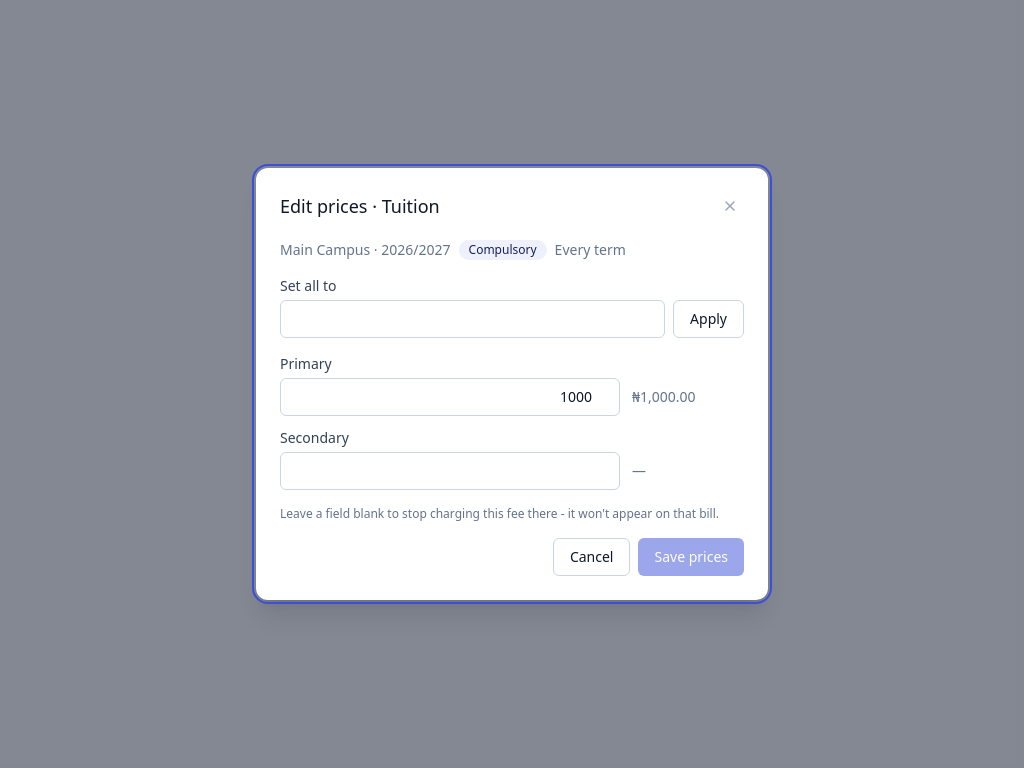
FeePricesModal › a failed row outcome keeps the modal open and shows the message against that level
Type "2000" into the number field named "Tuition price for Secondary".
click(450, 471); type("2000")  # box [280, 452, 620, 490]
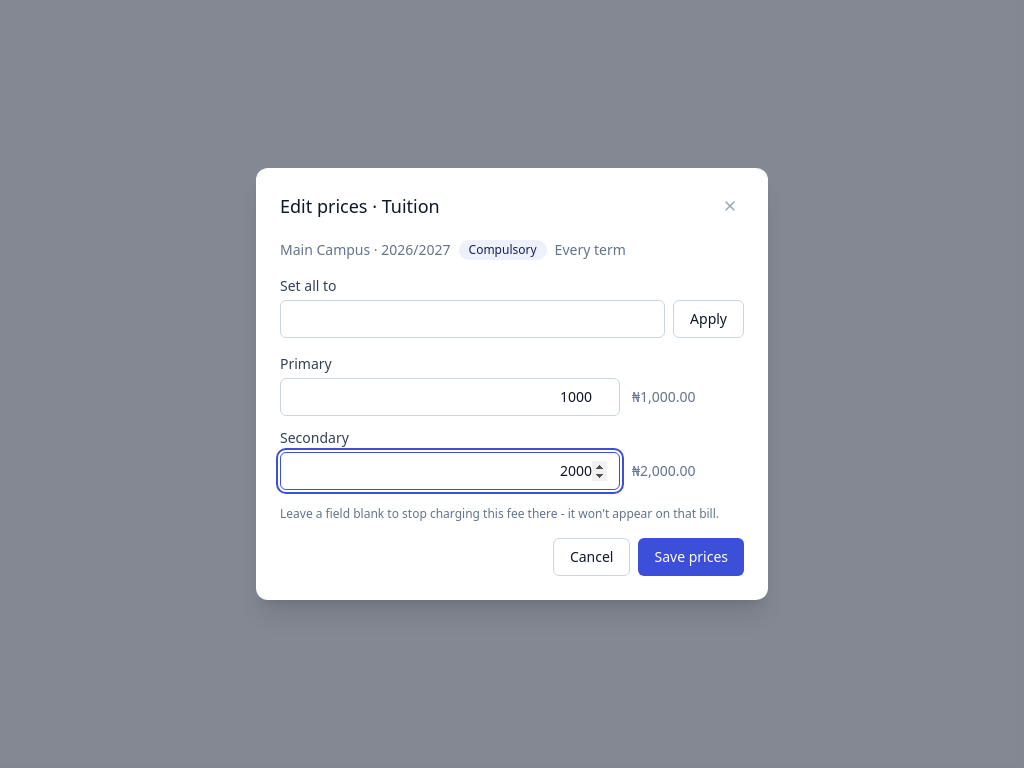
Click the button "Save prices".
click(691, 557)  # box [638, 538, 744, 576]
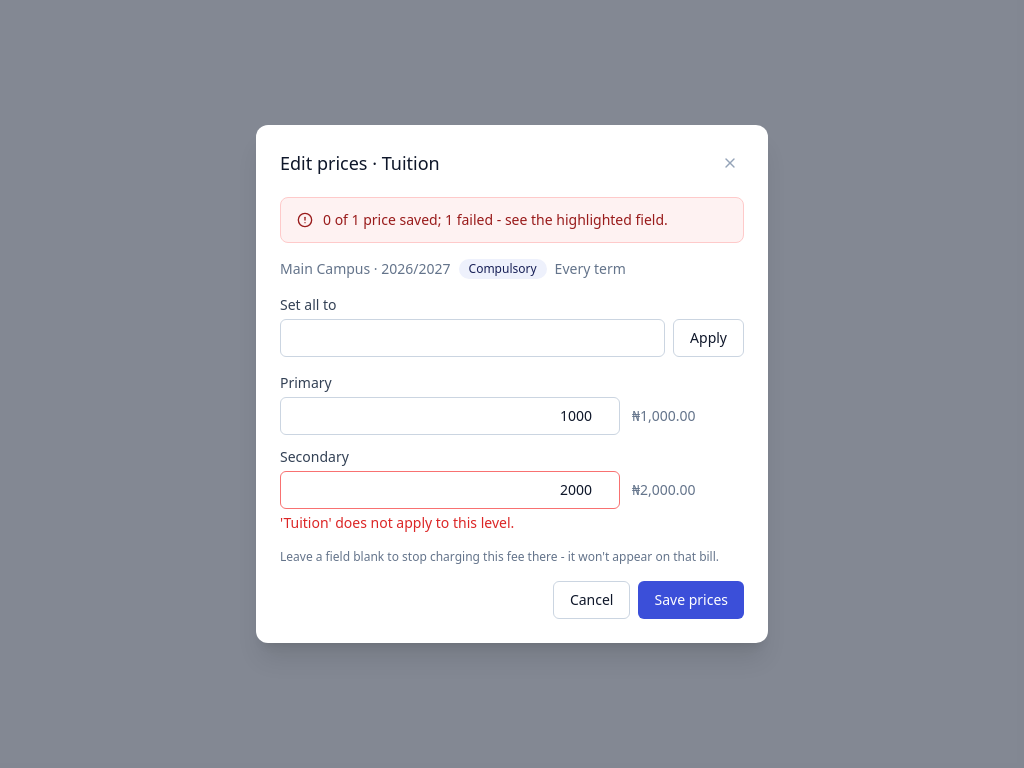
Expected: the text "'Tuition' does not apply to this level." is shown, [280, 513, 514, 532]
